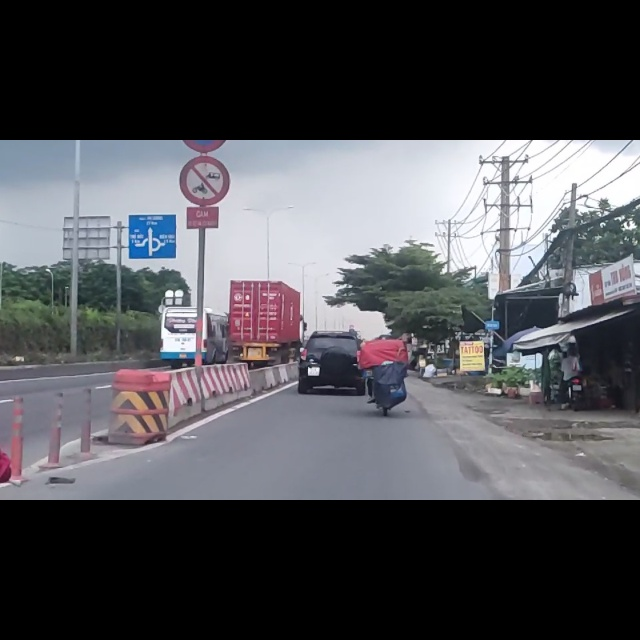bien_cam: (178, 27, 232, 117)
